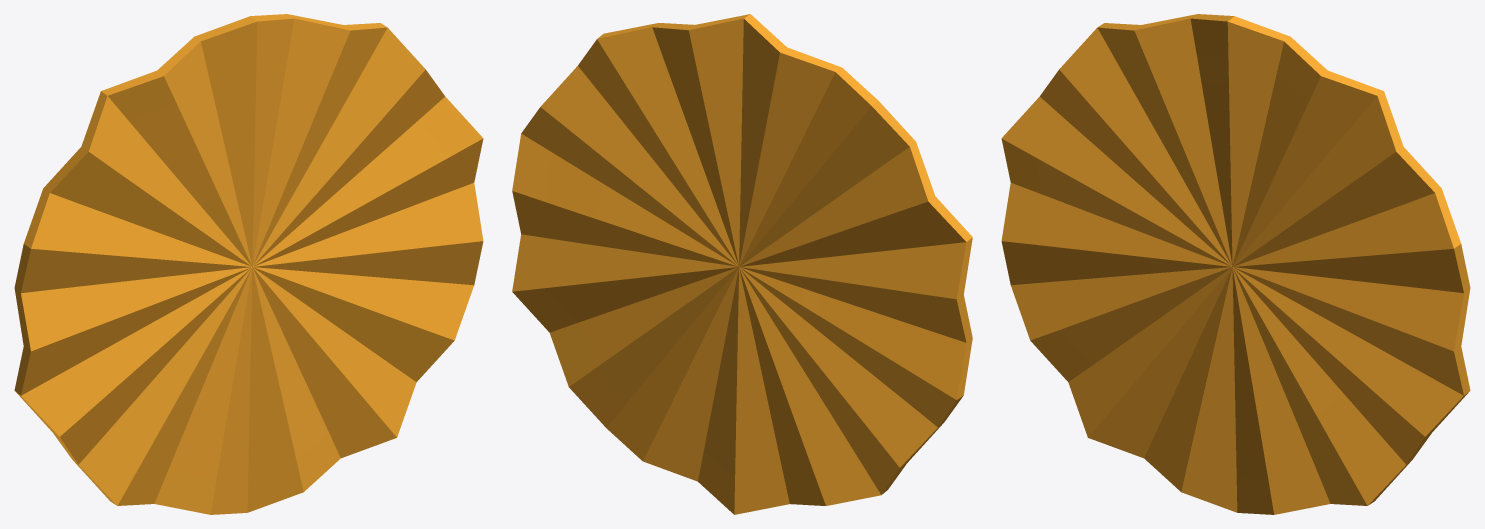
The model's file is SM_Decor_Circle_F_4july.fbx.
3 views of the same model, side by side, from view 1: azimuth 30°, elevation 25°; view 2: azimuth 150°, elevation 25°; view 3: azimuth 330°, elevation 25° (orthographic).
Parts seen in each view (by area): view 1: decor-circle-f-4july; view 2: decor-circle-f-4july; view 3: decor-circle-f-4july.
Boxes of the visible parts, x1=… form: decor-circle-f-4july: x1=14, y1=14, x2=483, y2=514; decor-circle-f-4july: x1=512, y1=14, x2=972, y2=514; decor-circle-f-4july: x1=1001, y1=14, x2=1470, y2=514.
Size of the model in its own units: 0.3808 by 0.4003 by 0.024.
